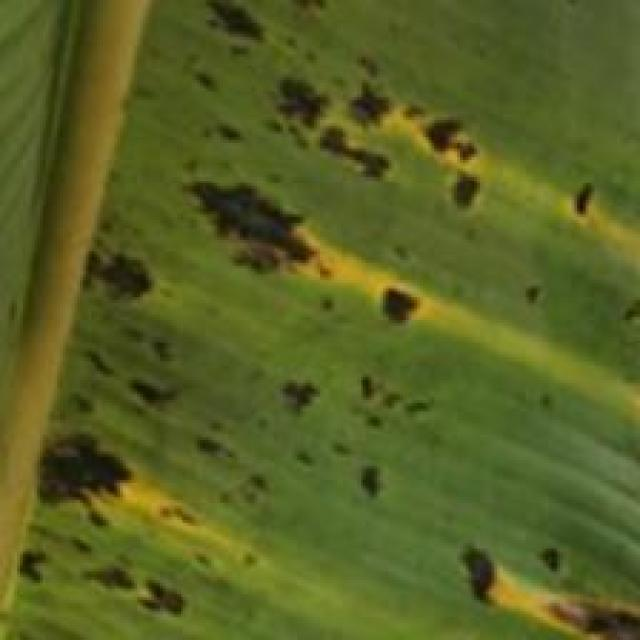Downey_mildrew: (99, 0, 640, 640), (0, 259, 176, 639)
